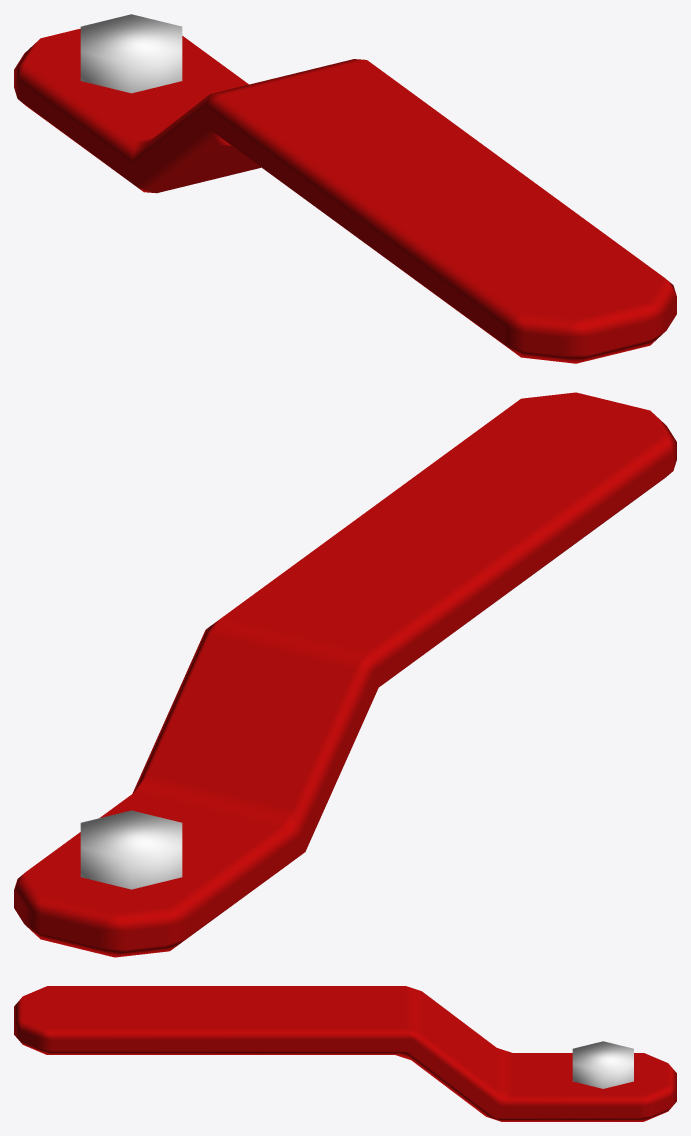
File: Pipe01Fitting02Handle.fbx
3 renders of one model, top to bottom at view 1: azimuth 30°, elevation 25°; view 2: azimuth 150°, elevation 25°; view 3: azimuth 270°, elevation 25°, orthographic. The views are drawn at different scales.
Parts seen in each view (by area): view 1: Pipe01Fitting02Handle; view 2: Pipe01Fitting02Handle; view 3: Pipe01Fitting02Handle.
Boxes of the visible parts, x1,y1,x2,y2 form: Pipe01Fitting02Handle: (14, 14, 676, 363); Pipe01Fitting02Handle: (14, 392, 676, 957); Pipe01Fitting02Handle: (14, 986, 676, 1121).
Bounding box in the file's own units: 2 × 1.75 × 11.25.
